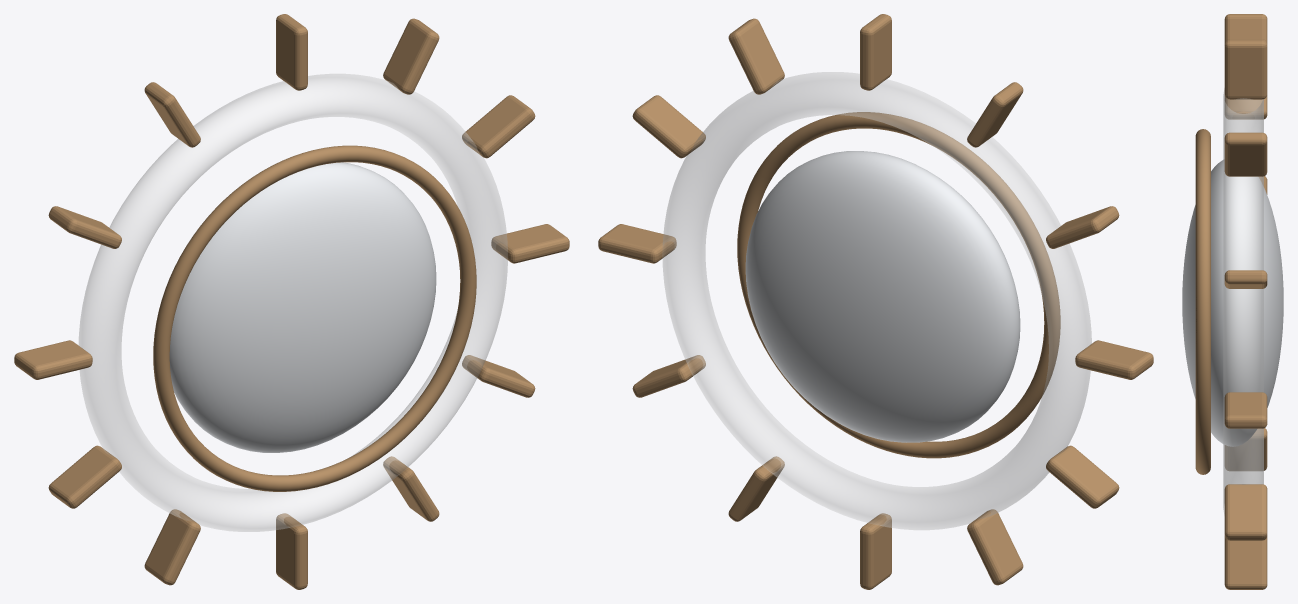
The model's file is bronzed-crystal.glb.
3 renders of one model, left to right at view 1: azimuth 30°, elevation 25°; view 2: azimuth 150°, elevation 25°; view 3: azimuth 270°, elevation 25°, orthographic. The views are drawn at different scales.
Parts seen in each view (by area): view 1: Ceramic lens, Outer dial, Bronze index, Radial prism 02, Radial prism 08, Radial prism 07, Radial prism 01, Radial prism 03, Radial prism 09, Radial prism 06, Radial prism 00, Radial prism 04 (+3 smaller); view 2: Ceramic lens, Outer dial, Bronze index, Radial prism 02, Radial prism 08, Radial prism 07, Radial prism 01, Radial prism 03, Radial prism 09, Radial prism 06, Radial prism 00, Radial prism 04 (+3 smaller); view 3: Ceramic lens, Outer dial, Bronze index, Radial prism 03, Radial prism 11, Radial prism 10, Radial prism 02, Radial prism 00, Radial prism 08, Radial prism 04, Radial prism 05, Radial prism 01.
Boxes of the visible parts, bbox=[...] form: Ceramic lens: bbox=[169, 162, 436, 452]; Outer dial: bbox=[79, 74, 507, 531]; Bronze index: bbox=[153, 145, 476, 491]; Radial prism 02: bbox=[383, 18, 439, 94]; Radial prism 08: bbox=[144, 509, 200, 585]; Radial prism 07: bbox=[48, 445, 121, 508]; Radial prism 01: bbox=[462, 95, 535, 158]; Radial prism 03: bbox=[276, 14, 307, 90]; Radial prism 09: bbox=[276, 513, 307, 589]; Radial prism 06: bbox=[14, 340, 92, 379]; Radial prism 00: bbox=[491, 224, 569, 263]; Radial prism 04: bbox=[144, 82, 200, 147]; Ceramic lens: bbox=[745, 151, 1020, 442]; Outer dial: bbox=[662, 72, 1091, 529]; Bronze index: bbox=[737, 112, 1060, 458]; Radial prism 02: bbox=[728, 18, 784, 94]; Radial prism 08: bbox=[967, 509, 1023, 585]; Radial prism 07: bbox=[1046, 445, 1119, 508]; Radial prism 01: bbox=[632, 95, 705, 158]; Radial prism 03: bbox=[860, 14, 891, 90]; Radial prism 09: bbox=[860, 513, 891, 589]; Radial prism 06: bbox=[1075, 340, 1153, 379]; Radial prism 00: bbox=[598, 224, 676, 263]; Radial prism 04: bbox=[967, 82, 1023, 147]; Ceramic lens: bbox=[1182, 159, 1283, 446]; Outer dial: bbox=[1223, 89, 1263, 514]; Bronze index: bbox=[1195, 129, 1210, 474]; Radial prism 03: bbox=[1224, 39, 1267, 99]; Radial prism 11: bbox=[1224, 484, 1267, 540]; Radial prism 10: bbox=[1224, 536, 1267, 589]; Radial prism 02: bbox=[1224, 132, 1267, 176]; Radial prism 00: bbox=[1224, 392, 1267, 428]; Radial prism 08: bbox=[1225, 428, 1267, 470]; Radial prism 04: bbox=[1224, 14, 1267, 43]; Radial prism 05: bbox=[1224, 95, 1267, 119]; Radial prism 01: bbox=[1224, 270, 1267, 288].
Bounding box in the file's own units: 4.86 × 4.86 × 0.854.
